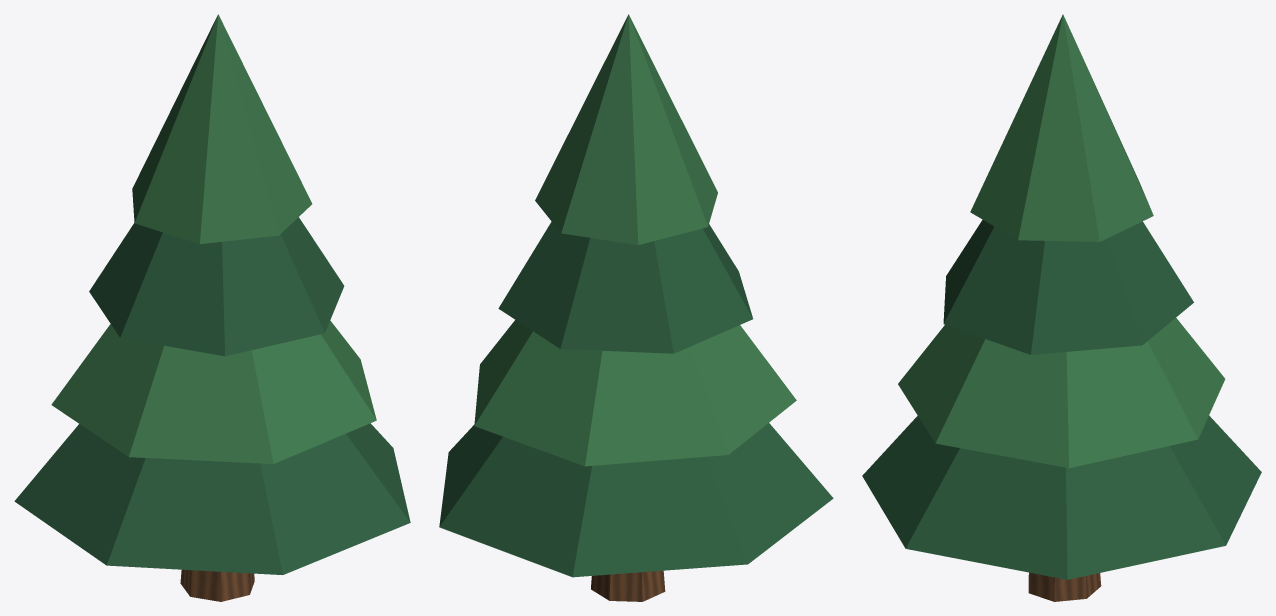
The model's file is Pino_B.fbx.
The picture shows the model from 3 angles, left to right: view 1: azimuth 30°, elevation 25°; view 2: azimuth 150°, elevation 25°; view 3: azimuth 270°, elevation 25°; orthographic projection.
Visible parts, largest first — view 1: Kit_Pino_B; view 2: Kit_Pino_B; view 3: Kit_Pino_B.
Boxes of the visible parts, bbox=[...] form: Kit_Pino_B: bbox=[14, 14, 410, 601]; Kit_Pino_B: bbox=[439, 14, 833, 601]; Kit_Pino_B: bbox=[862, 14, 1261, 601].
Size of the model in its own units: 2.87 by 4.62 by 2.92.
